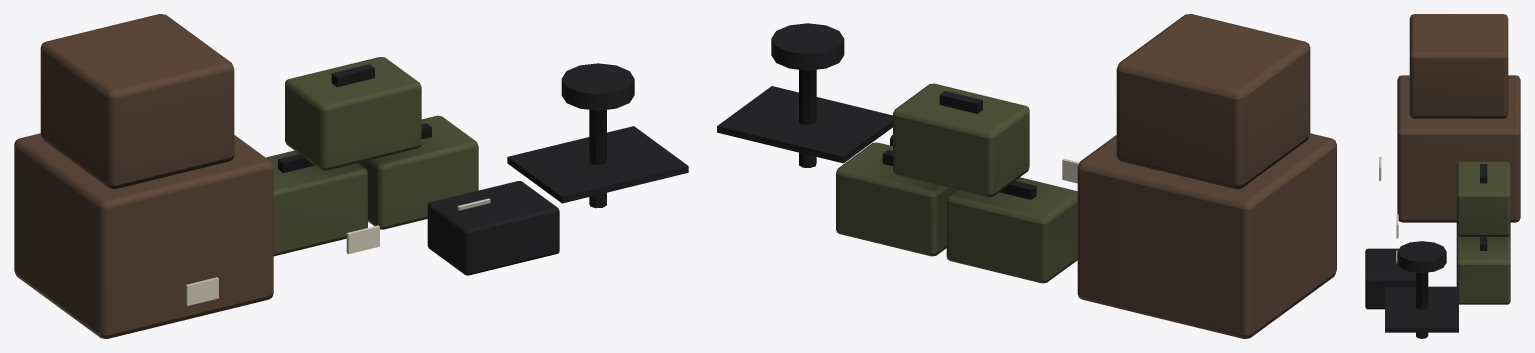
The model's file is trader_goods.glb.
3 views of the same model, side by side, from view 1: azimuth 30°, elevation 25°; view 2: azimuth 150°, elevation 25°; view 3: azimuth 270°, elevation 25° (orthographic). The views are drawn at different scales.
Visible parts, largest first — view 1: TraderGoods; view 2: TraderGoods; view 3: TraderGoods.
Part boxes in pixels (x1,y1,x2,y2): TraderGoods: (14,14,688,338); TraderGoods: (717,14,1336,338); TraderGoods: (1365,14,1520,338).
Bounding box in the file's own units: 1.83 × 0.72 × 0.63.
